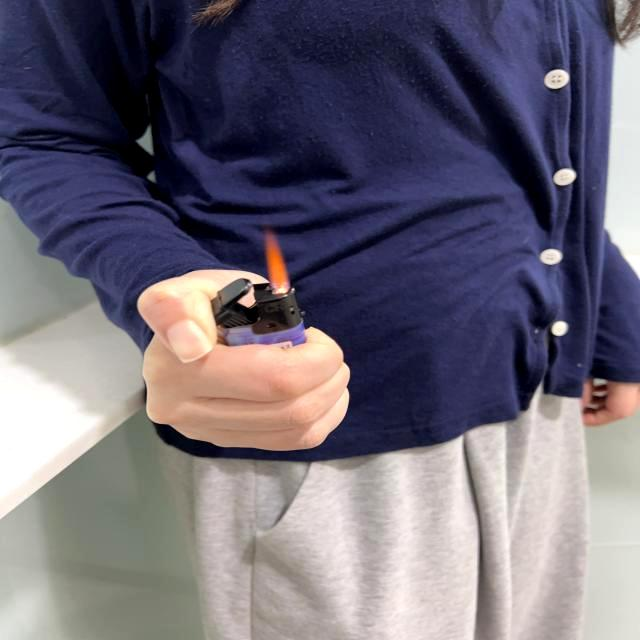fire: (261, 227, 291, 296)
